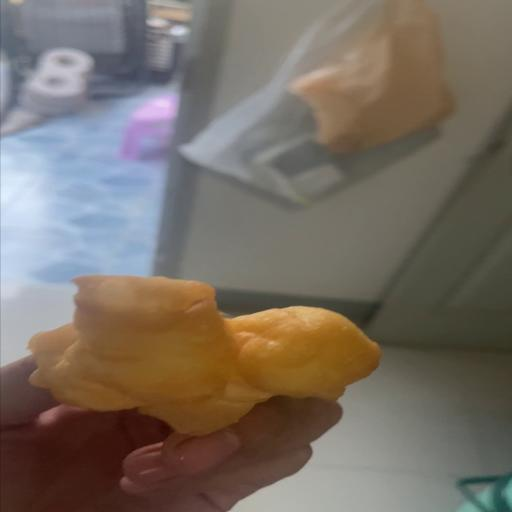street_golden_good: (28, 274, 379, 434)
